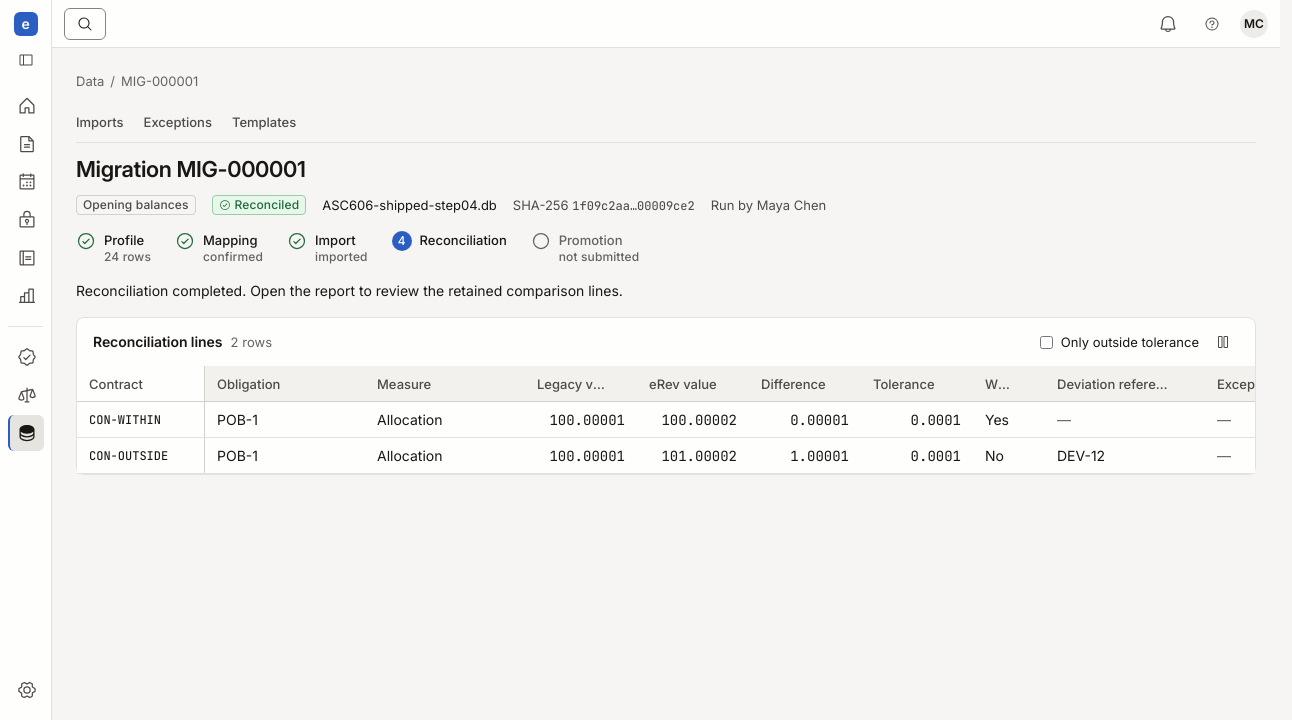
Test: SF-19:detail (SCREENS_B §10.3 rev 1.20) › shows retained decimal values and filters by tolerance rather than nonzero difference
Check: the text "CON-WITHIN" is shown, box [89,412,161,428]
Check: the text "100.00002" is shown, box [661,410,737,430]
Click the checkbox labelled "Only outside tolerance" at (1046, 342), box [1040,336,1053,348]
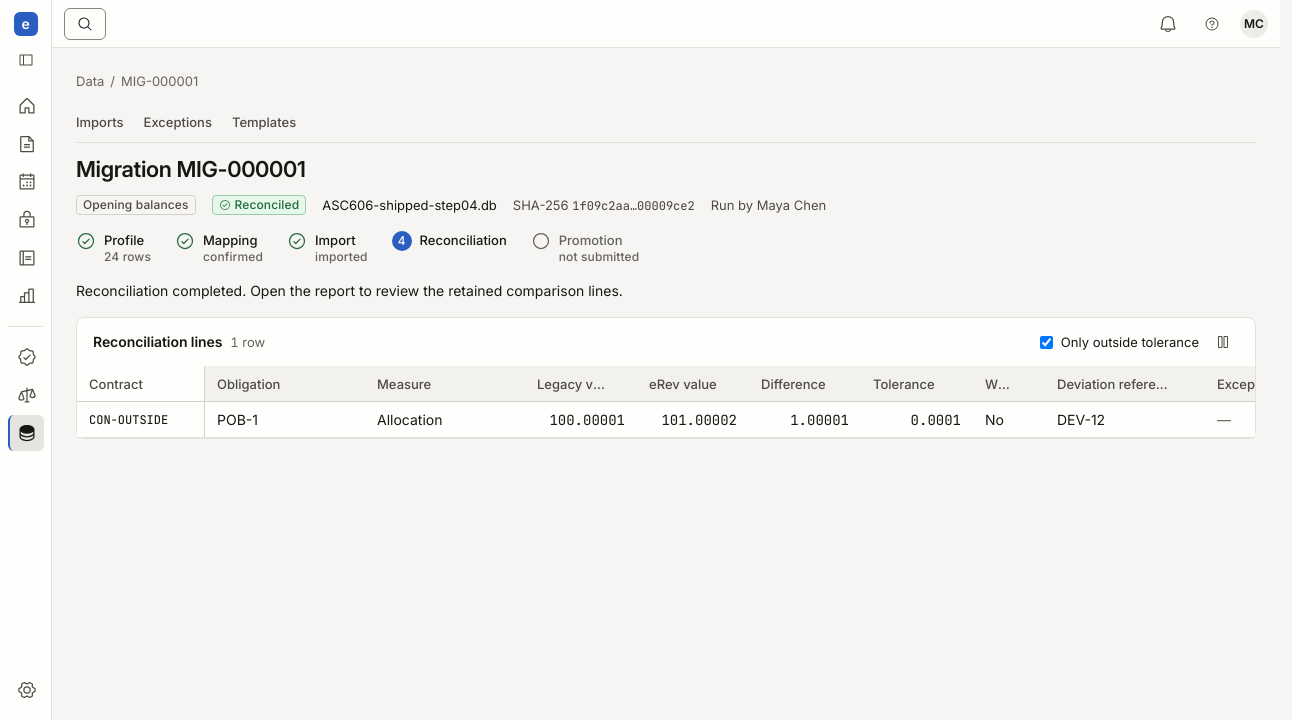
Check: the text "CON-OUTSIDE" is shown, box [89,412,168,428]
Check: the text "CON-WITHIN" is gone
